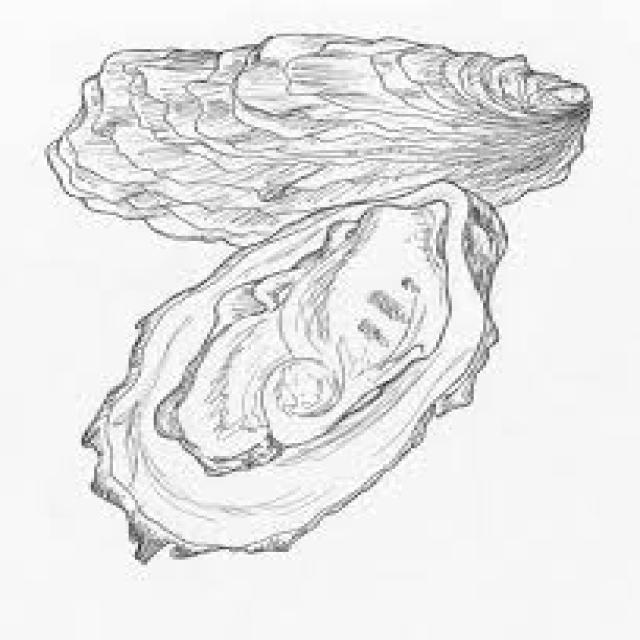Oyster- Indeterminate: (83, 183, 507, 561), (47, 34, 586, 246)
